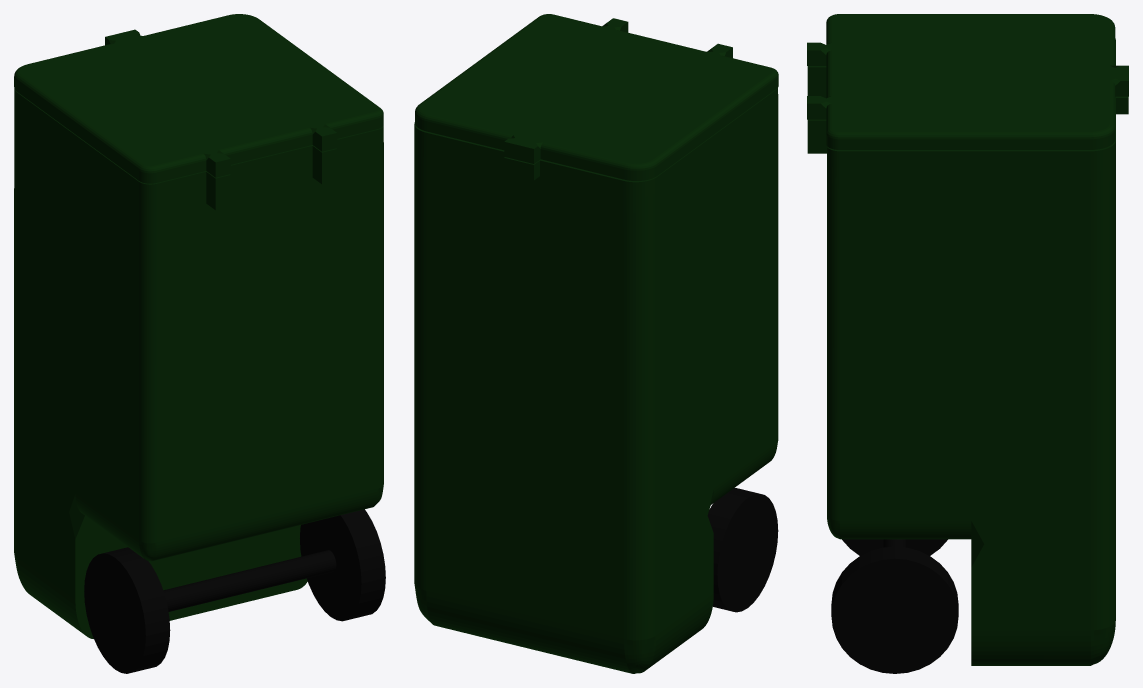
File: poubelle2.glb
3 renders of one model, left to right at view 1: azimuth 30°, elevation 25°; view 2: azimuth 150°, elevation 25°; view 3: azimuth 270°, elevation 25°, orthographic. The views are drawn at different scales.
Parts seen in each view (by area): view 1: Cube, Cube.001, Cylindre.003; view 2: Cube, Cube.001, Cylindre.003; view 3: Cube, Cube.001, Cylindre.003.
Boxes of the visible parts, <box> form: Cube: <box>14,88,383,638</box>; Cube.001: <box>14,14,383,183</box>; Cylindre.003: <box>84,509,385,673</box>; Cube: <box>414,88,778,673</box>; Cube.001: <box>415,14,778,180</box>; Cylindre.003: <box>707,488,778,612</box>; Cube: <box>807,38,1128,665</box>; Cube.001: <box>807,14,1128,149</box>; Cylindre.003: <box>831,539,958,673</box>.
Bounding box in the file's own units: 1 × 2.06 × 1.11.
